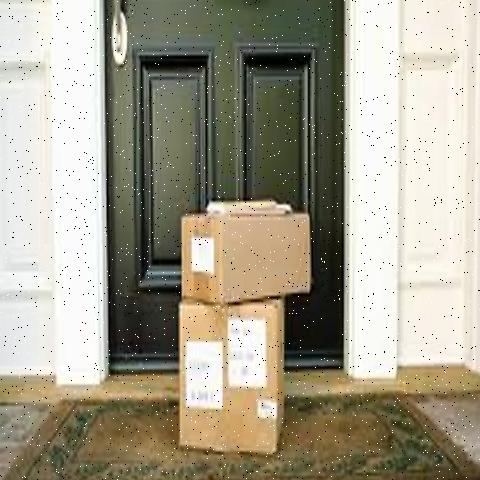Other: (175, 297, 289, 459), (178, 197, 319, 303)
